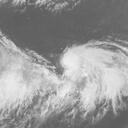cyclone: (60, 43, 107, 92)
